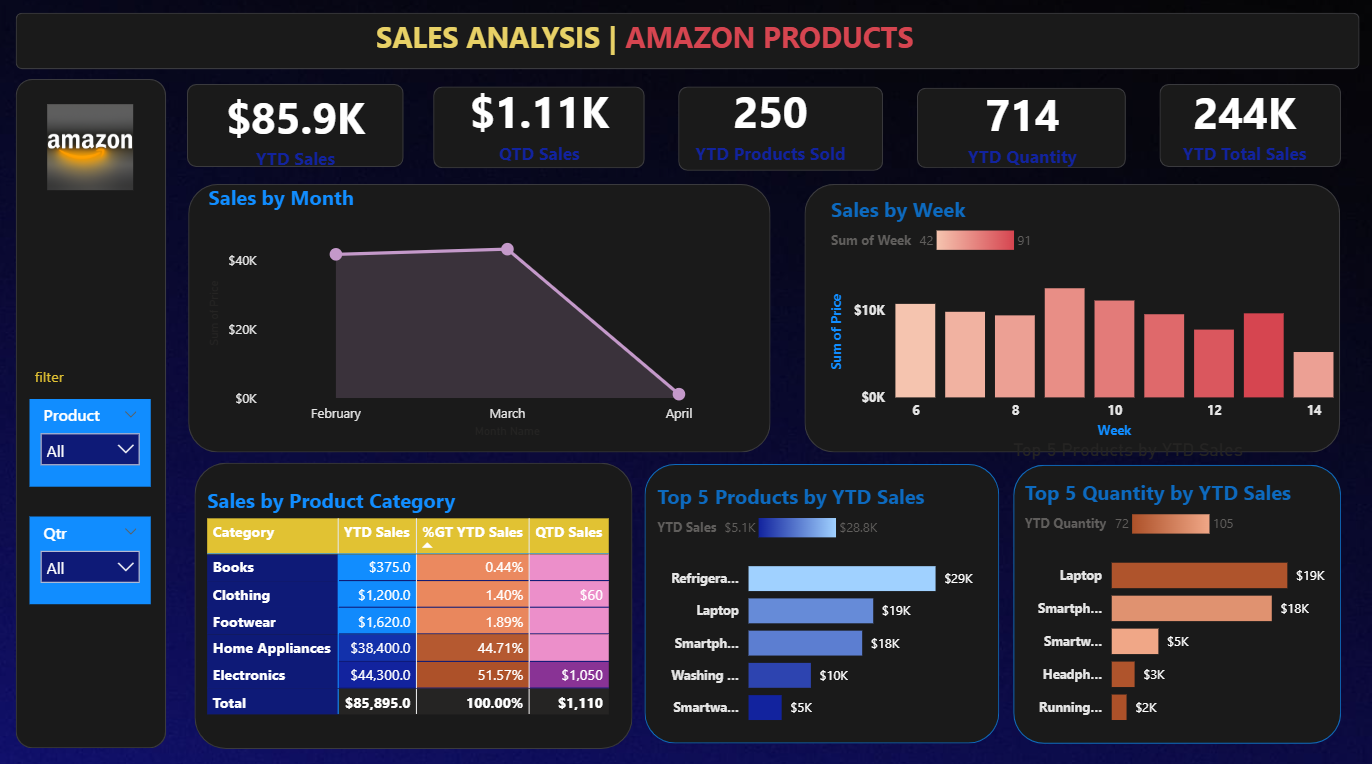

The page's visual inventory and layout, read from the dashboard file:
{"tool":"powerbi","page":{"name":"Page 1","canvas":[1280,720],"ordinal":0},"visuals":[{"type":"shape","box":[406.4,80.8,196.6,76],"z":0},{"type":"shape","box":[15.1,25.6,1250,52.3],"z":1000},{"type":"textbox","box":[347.7,25.6,523.3,53.5],"z":2000},{"type":"shape","box":[16.9,74.8,139.9,622.5],"z":3000},{"type":"shape","box":[1081,79.6,168.9,77.2],"z":4000},{"type":"shape","box":[633.2,80.8,190.6,78.4],"z":5000},{"type":"shape","box":[177.1,79.6,201.5,77.2],"z":6000},{"type":"card","fields":{"Values":["amazon_sales_data 2025.YTD Sales"]},"box":[181,77.2,193,86.9],"z":7000},{"type":"card","fields":{"Values":["amazon_sales_data 2025.QTD Sales"]},"box":[406.6,74.8,195.4,80.8],"z":8000},{"type":"card","fields":{"Values":["amazon_sales_data 2025.YTD Products Sold"]},"box":[624.9,76,190.6,79.6],"z":9000},{"type":"card","fields":{"Values":["amazon_sales_data 2025.YTD Total Sales"]},"box":[1072.5,72.4,177.3,86.9],"z":10000},{"type":"shape","box":[856.4,82,194.2,74.8],"z":11000},{"type":"card","fields":{"Values":["amazon_sales_data 2025.YTD Quantity"]},"box":[856.6,74.8,194.2,86.9],"z":12000},{"type":"shape","box":[177.3,172.5,541.7,249.7],"z":13000},{"type":"areaChart","title":"Sales by Month","fields":{"Category":["DATE TABLE.Month Name"],"Y":["Sum(amazon_sales_data 2025.Price)"]},"box":[191.8,172.5,511.5,241.3],"z":14000},{"type":"shape","box":[751.6,172.5,498.3,249.7],"z":15000},{"type":"columnChart","title":"Sales by Week","fields":{"Category":["DATE TABLE.Week"],"Y":["Sum(amazon_sales_data 2025.Price)"]},"box":[771.2,182.5,477.5,231.2],"z":16000},{"type":"shape","box":[183.8,431.2,407.5,266.2],"z":17000},{"type":"pivotTable","title":"Sales by Product Category","fields":{"Rows":["amazon_sales_data 2025.Category"],"Values":["amazon_sales_data 2025.YTD Sales1","amazon_sales_data 2025.YTD Sales","amazon_sales_data 2025.QTD Sales"]},"box":[191.2,453.8,385,235],"z":18000},{"type":"shape","box":[602.5,432.5,330,260],"z":19000},{"type":"shape","title":"Top 5 Products by YTD Sales","box":[945,408.8,305,283.8],"z":20000},{"type":"clusteredBarChart","title":"Top 5 Quantity by YTD Sales","fields":{"Category":["amazon_sales_data 2025.Product"],"Y":["amazon_sales_data 2025.YTD Sales"]},"box":[951.2,446.2,291.2,242.5],"z":21000},{"type":"clusteredBarChart","title":"Top 5 Products by YTD Sales","fields":{"Category":["amazon_sales_data 2025.Product"],"Y":["amazon_sales_data 2025.YTD Sales"]},"box":[608.8,450,306.2,238.8],"z":22000},{"type":"slicer","fields":{"Values":["DATE TABLE.Qtr"]},"box":[30,481.2,112.5,81.2],"z":23000},{"type":"slicer","fields":{"Values":["amazon_sales_data 2025.Product"]},"box":[30,372.5,112.5,81.2],"z":24000},{"type":"textbox","box":[30,337.5,56.2,35],"z":25000},{"type":"image","box":[16.2,92.5,140,90],"z":26000}]}

Visuals, with their boxes in screenshot pixels (x1, y1, x2, y2), scaled from the page's 1280x720 canvas onto the 1372x764 screenshot:
shape: <box>436,86,646,166</box>
shape: <box>16,27,1356,83</box>
textbox: <box>373,27,934,84</box>
shape: <box>18,79,168,740</box>
shape: <box>1159,84,1340,166</box>
shape: <box>679,86,883,169</box>
shape: <box>190,84,406,166</box>
card - amazon_sales_data 2025.YTD Sales: <box>194,82,401,174</box>
card - amazon_sales_data 2025.QTD Sales: <box>436,79,645,165</box>
card - amazon_sales_data 2025.YTD Products Sold: <box>670,81,874,165</box>
card - amazon_sales_data 2025.YTD Total Sales: <box>1150,77,1340,169</box>
shape: <box>918,87,1126,166</box>
card - amazon_sales_data 2025.YTD Quantity: <box>918,79,1126,172</box>
shape: <box>190,183,771,448</box>
"Sales by Month" areaChart: <box>206,183,754,439</box>
shape: <box>806,183,1340,448</box>
"Sales by Week" columnChart: <box>827,194,1338,439</box>
shape: <box>197,458,634,740</box>
"Sales by Product Category" pivotTable: <box>205,482,618,731</box>
shape: <box>646,459,1000,735</box>
"Top 5 Products by YTD Sales" shape: <box>1013,434,1340,735</box>
"Top 5 Quantity by YTD Sales" clusteredBarChart: <box>1020,473,1332,731</box>
"Top 5 Products by YTD Sales" clusteredBarChart: <box>653,478,981,731</box>
slicer - DATE TABLE.Qtr: <box>32,511,153,597</box>
slicer - amazon_sales_data 2025.Product: <box>32,395,153,481</box>
textbox: <box>32,358,92,395</box>
image: <box>17,98,167,194</box>
